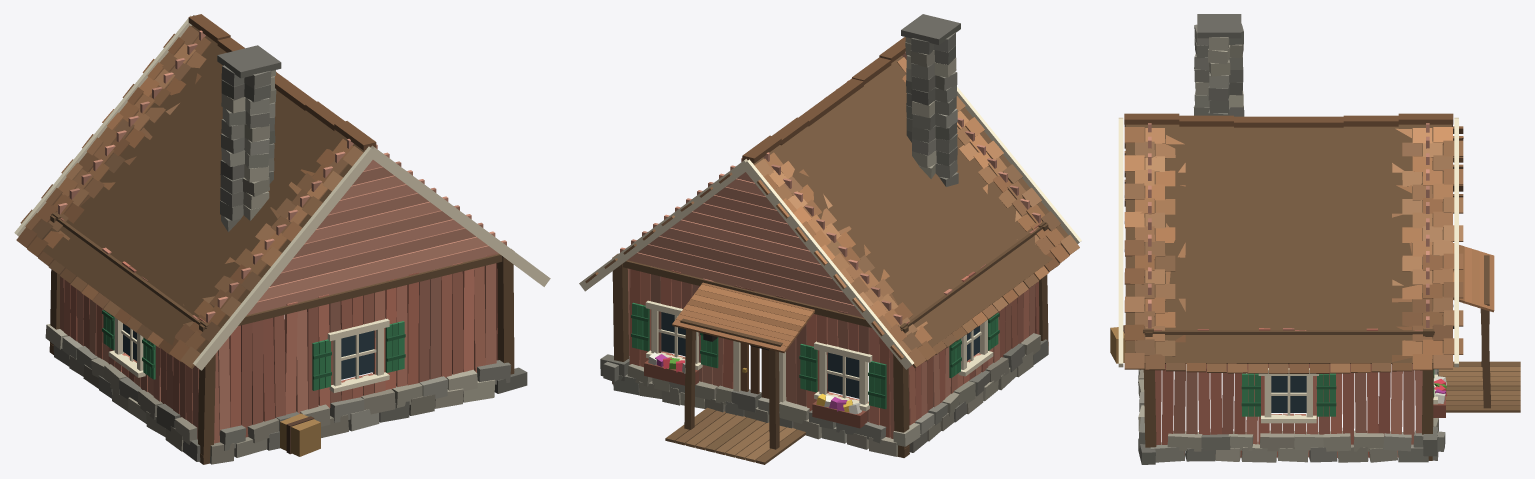
The model's file is casa_2.glb.
3 renders of one model, left to right at view 1: azimuth 30°, elevation 25°; view 2: azimuth 150°, elevation 25°; view 3: azimuth 270°, elevation 25°, orthographic. The views are drawn at different scales.
Visible parts, largest first — view 1: Madeira, Pedra, Telhado, Vidro; view 2: Madeira, Telhado, Pedra, Vidro; view 3: Madeira, Telhado, Pedra, Vidro.
Part boxes in pixels (x1,y1,x2,y2): Madeira: [14, 15, 550, 464]; Pedra: [45, 45, 527, 464]; Telhado: [16, 14, 376, 368]; Vidro: [123, 323, 374, 379]; Madeira: [579, 52, 1081, 464]; Telhado: [585, 37, 1079, 367]; Pedra: [600, 14, 1048, 456]; Vidro: [661, 312, 979, 398]; Madeira: [1110, 117, 1520, 460]; Telhado: [1124, 113, 1494, 373]; Pedra: [1138, 14, 1446, 464]; Vidro: [1271, 376, 1306, 412].
Size of the model in its own units: 8.41 by 7.99 by 8.85.
